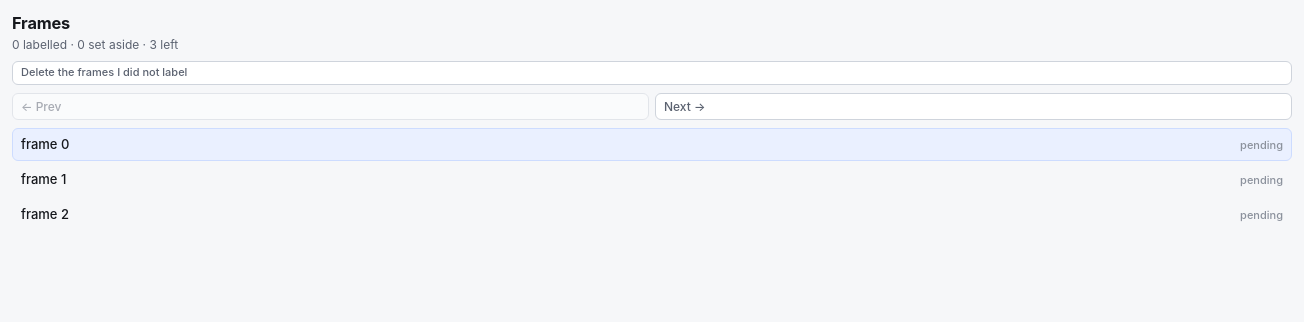
LabelQueue: unsaved work › guards next and previous too
This screenshot has width=1304, height=322.
Expected: the button "frame 0 pending" is shown, [12, 128, 1292, 161]
Click the button with aria-label "next frame". click: (685, 107)
box: [655, 93, 1292, 120]
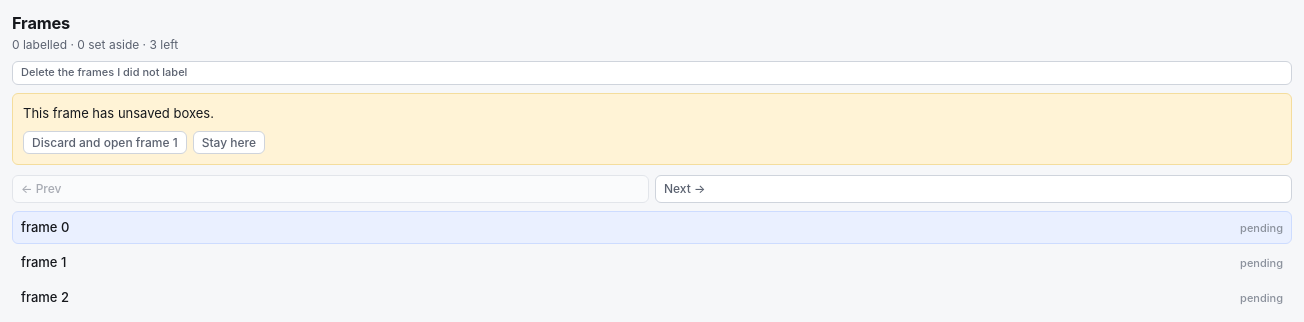
Expected: the message shows "unsaved", [23, 105, 214, 121]
